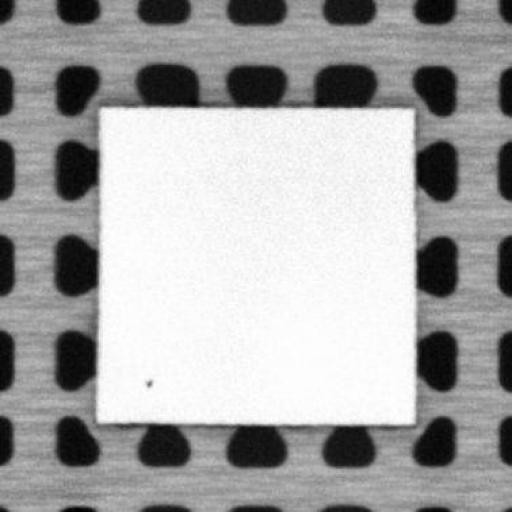DIE_INK: (142, 374, 153, 388)
